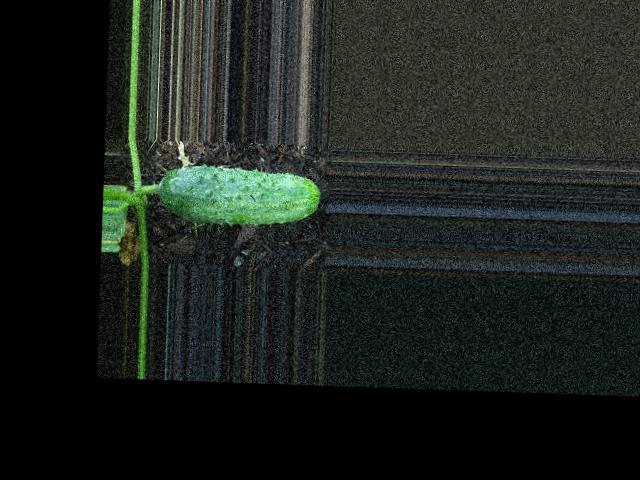cucumber: (158, 164, 322, 228)
